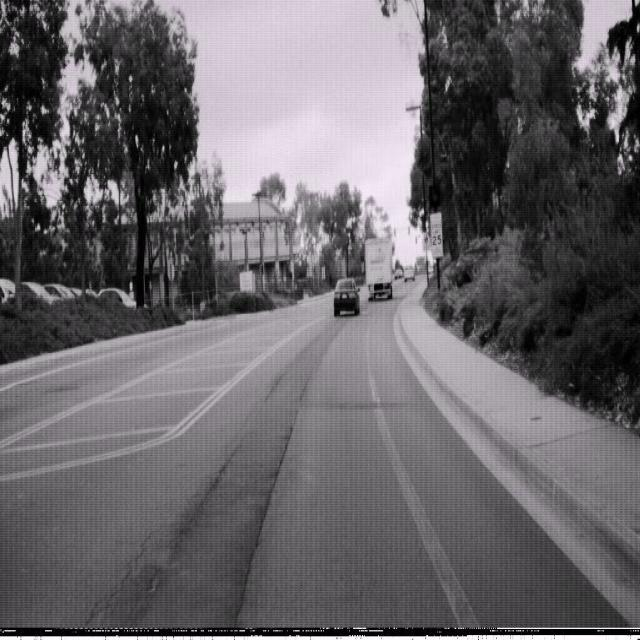speedLimit25: (429, 211, 444, 259)
